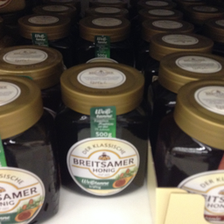honey: (53, 62, 151, 197)
